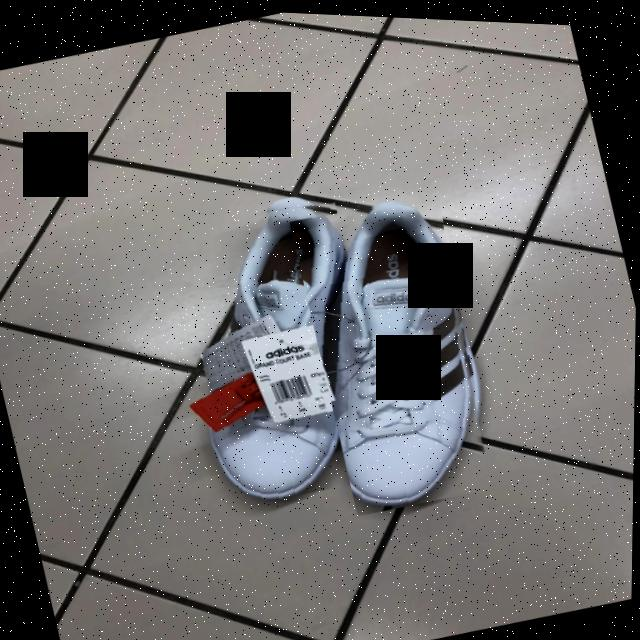shoe: (326, 200, 476, 506), (197, 204, 350, 499)
